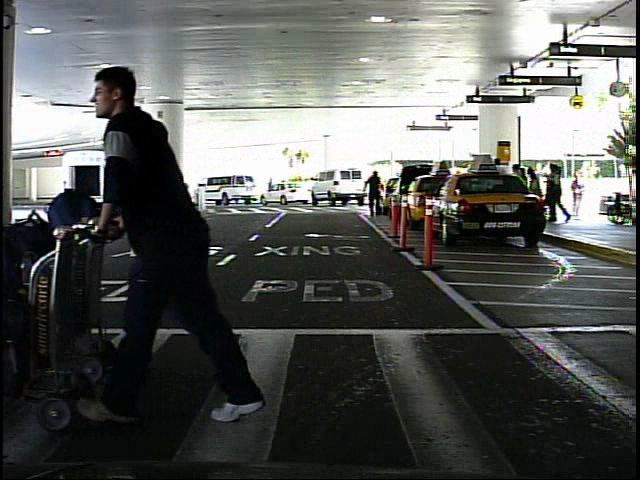person: (96, 47, 271, 426), (363, 167, 387, 223), (571, 171, 589, 218), (111, 171, 130, 209)
